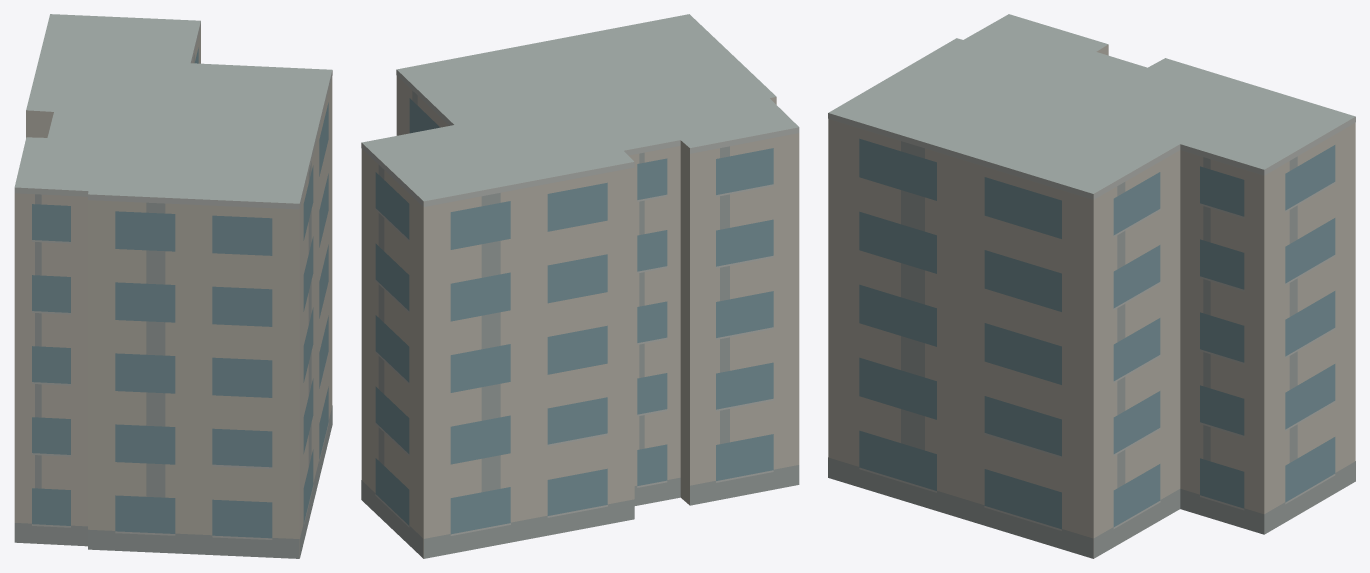
File: survey-upis-32550833.glb
The picture shows the model from 3 angles, left to right: view 1: azimuth 30°, elevation 25°; view 2: azimuth 150°, elevation 25°; view 3: azimuth 270°, elevation 25°; orthographic projection. The views are drawn at different scales.
Parts seen in each view (by area): view 1: survey-upis-32550833.tmp; view 2: survey-upis-32550833.tmp; view 3: survey-upis-32550833.tmp.
Boxes of the visible parts, x1,y1,x2,y2 form: survey-upis-32550833.tmp: [14, 14, 332, 558]; survey-upis-32550833.tmp: [361, 14, 799, 558]; survey-upis-32550833.tmp: [828, 14, 1355, 558].
Size of the model in its own units: 15.98 by 15.1 by 19.8.
